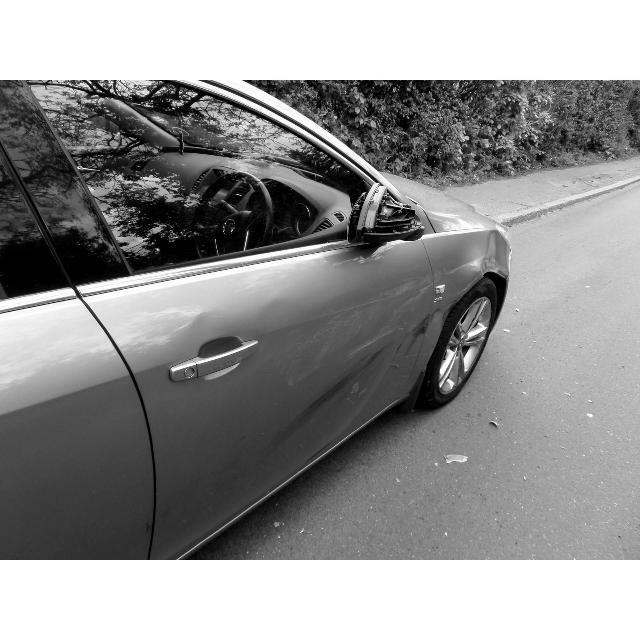fender-dent: (409, 224, 520, 314)
